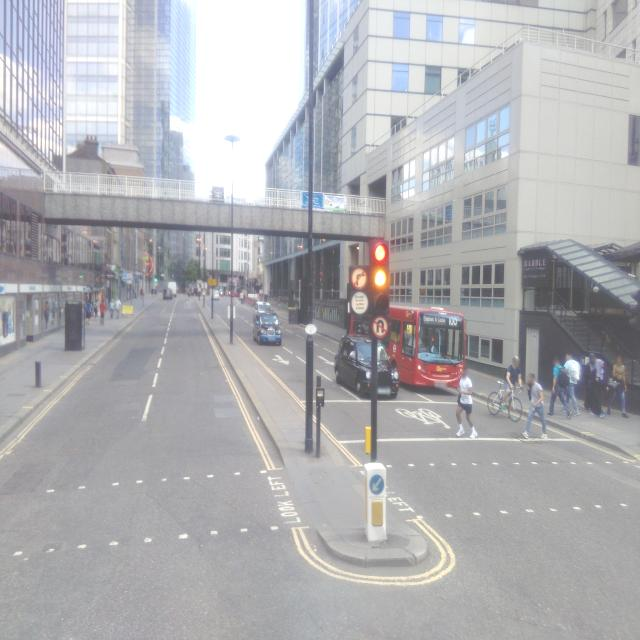bike: (486, 386, 523, 419)
car: (334, 336, 399, 399), (253, 313, 283, 347), (162, 288, 173, 301)
